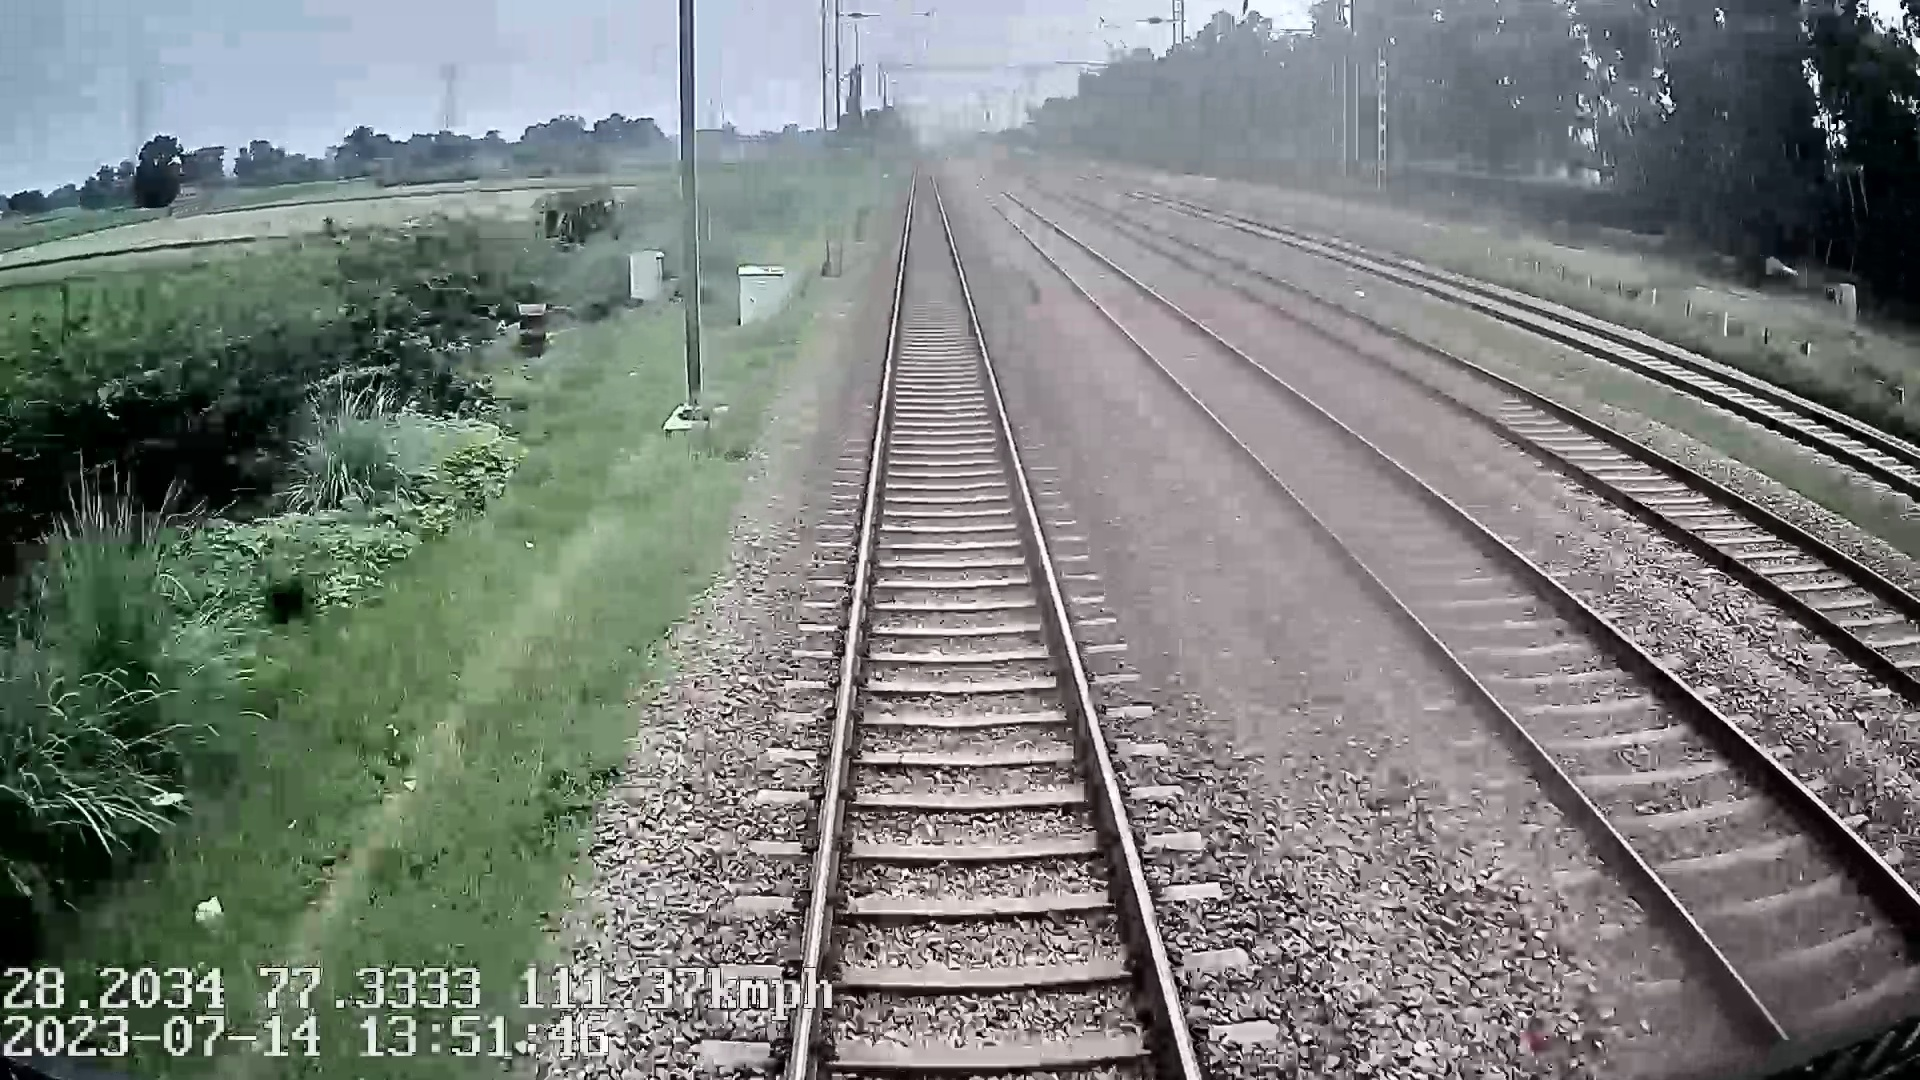track1: (798, 180, 1189, 1070)
track2: (989, 196, 1919, 1034)
track3: (1094, 210, 1918, 678)
track4: (1234, 221, 1918, 479)
